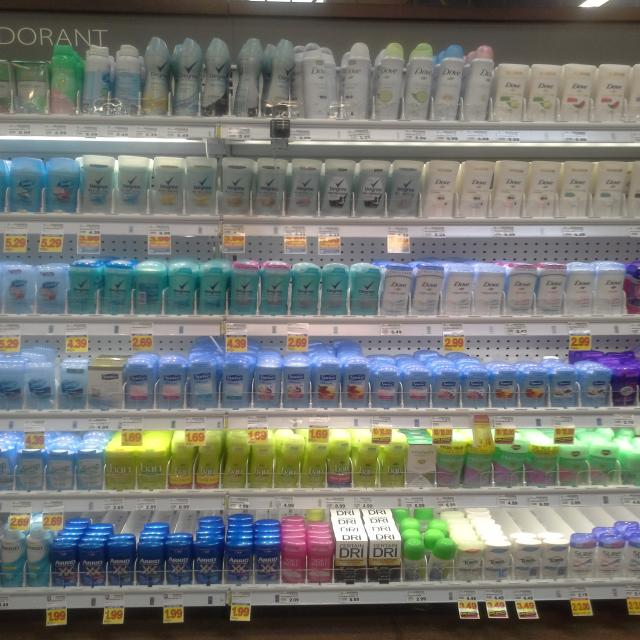unorganised: (376, 42, 495, 124), (294, 41, 370, 124), (262, 35, 291, 122), (234, 37, 263, 118), (110, 41, 140, 116), (80, 43, 108, 118), (133, 259, 166, 312), (26, 524, 51, 589), (426, 532, 456, 578)
